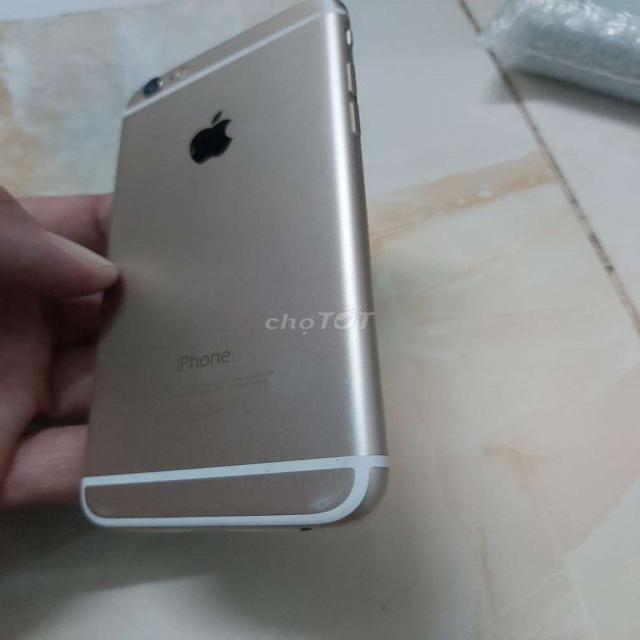scratch: (283, 458, 392, 530), (79, 479, 136, 542)
